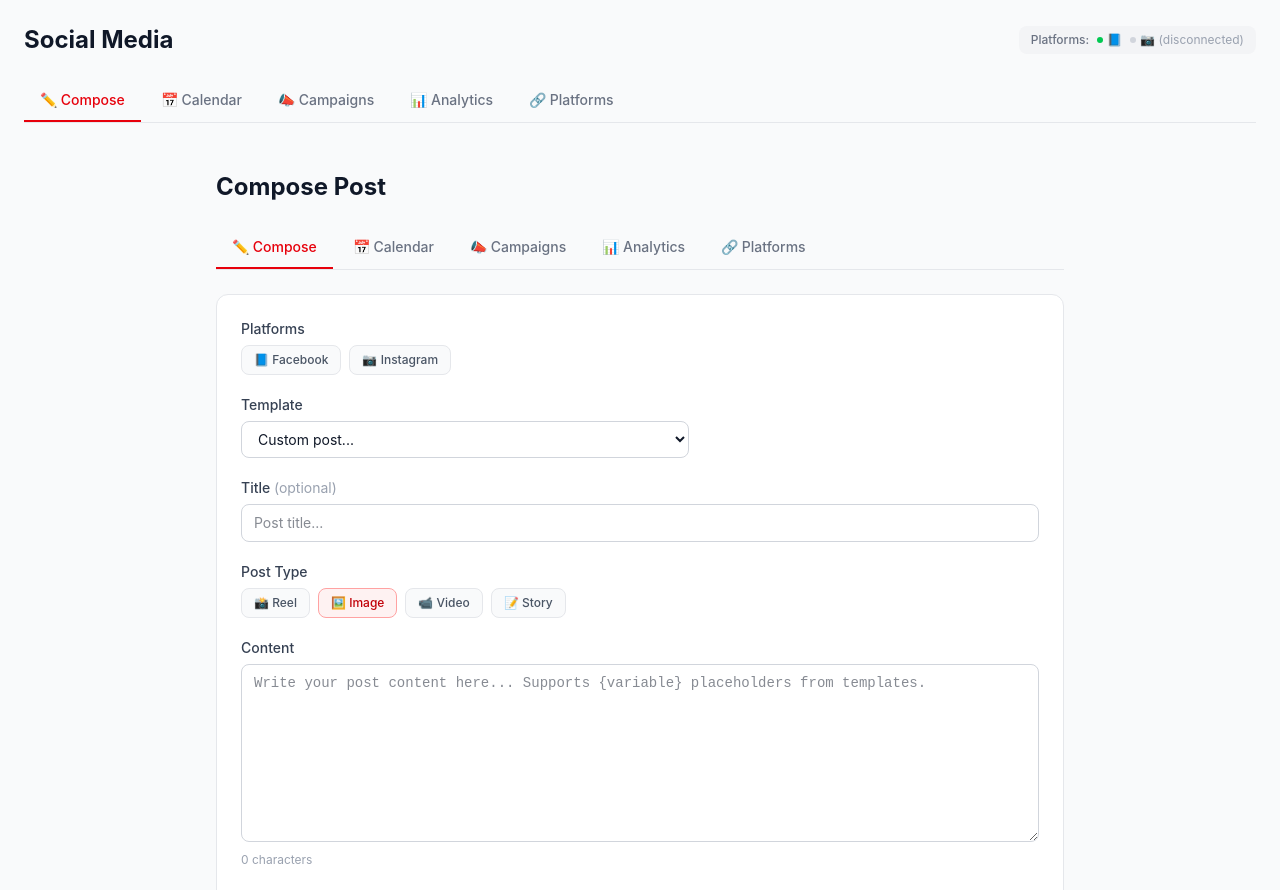
Test case: SocialMedia › Compose Tab › shows template selector and applies template
Select "Welcome Post" in the dropdown named "Content template": (465, 440) [241,421,689,458]
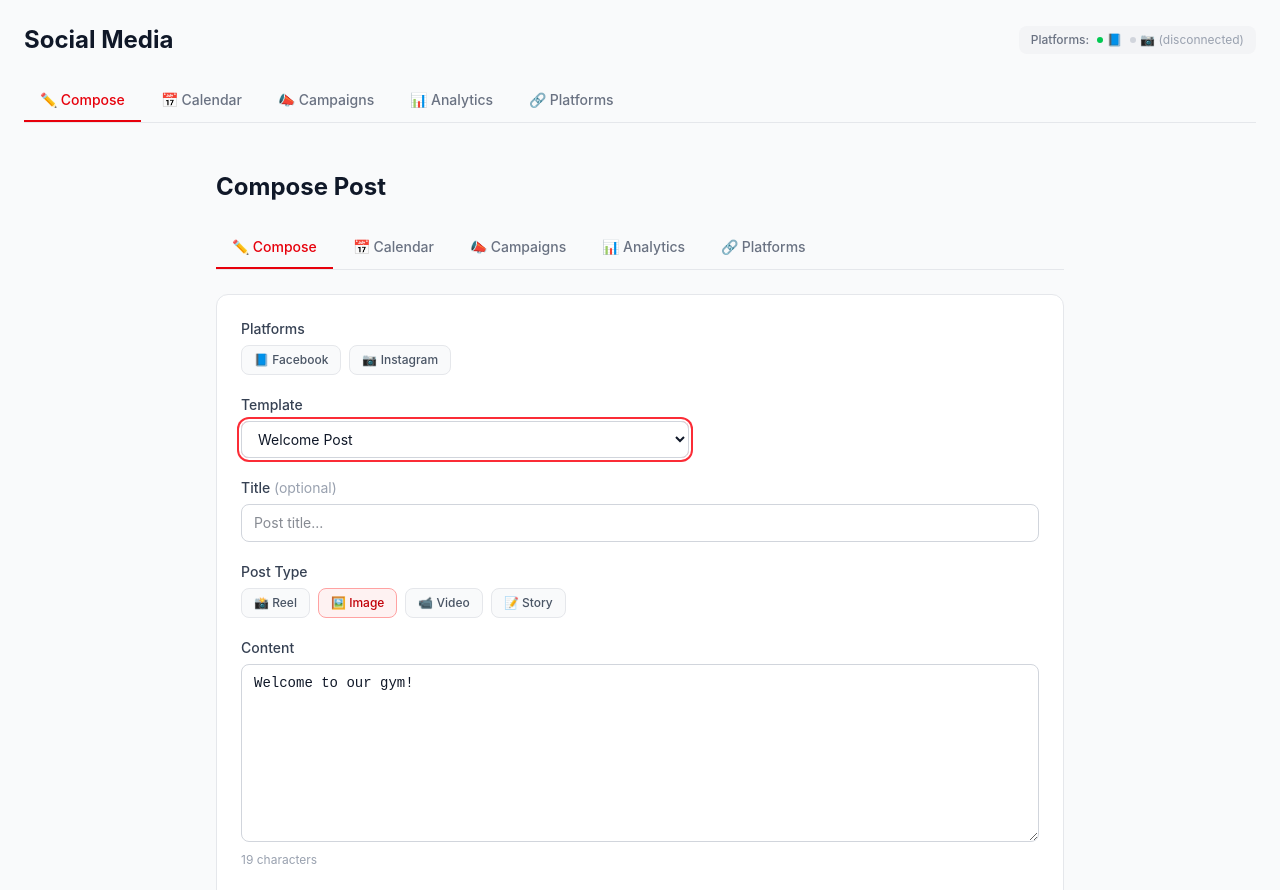
expect the text box with placeholder "Write your post content" holds "Welcome to our gym!": met, box [241,664,1039,842]
